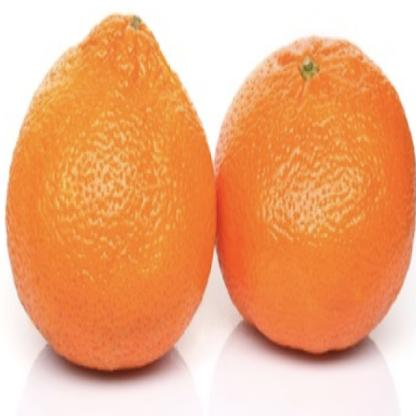fresh: (6, 17, 416, 368)
